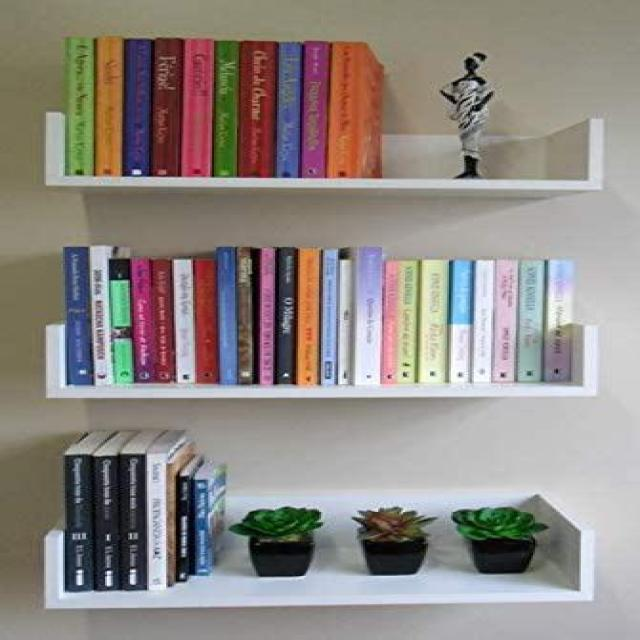book: (69, 40, 88, 174), (390, 268, 412, 382), (67, 460, 86, 588), (158, 40, 176, 172), (248, 43, 266, 173), (69, 247, 86, 383), (134, 42, 151, 173), (101, 462, 117, 589), (426, 264, 443, 382), (304, 252, 319, 380), (363, 254, 378, 380), (103, 42, 117, 173), (453, 260, 468, 381), (524, 266, 540, 378), (525, 266, 541, 378), (136, 267, 151, 382), (191, 42, 204, 174), (176, 264, 191, 375), (147, 458, 159, 586), (199, 265, 212, 375), (308, 45, 319, 171), (504, 268, 516, 382), (281, 256, 292, 378), (220, 257, 231, 379), (285, 42, 294, 177), (264, 254, 271, 382)
